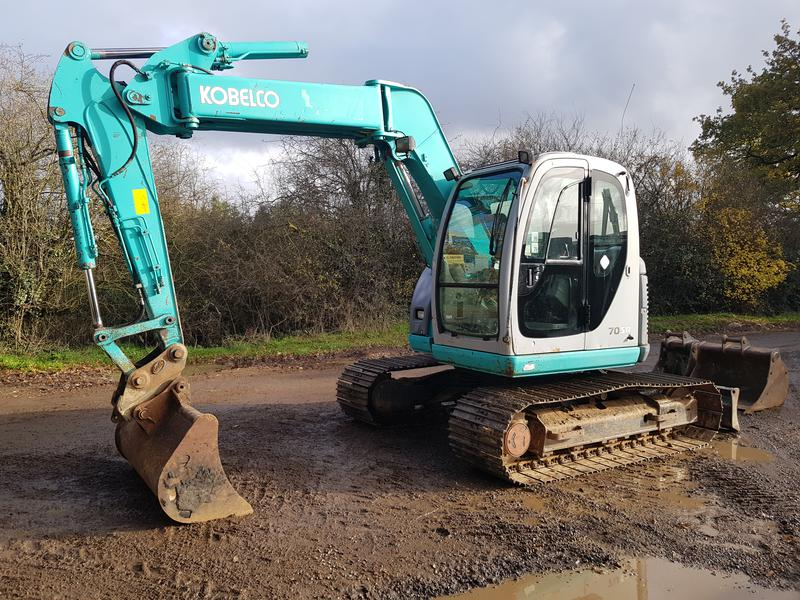shovel: (35, 27, 788, 528)
